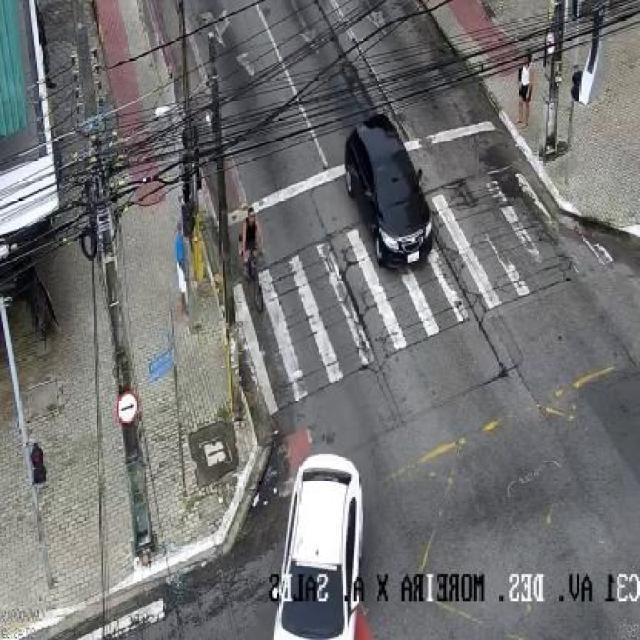Car: (323, 100, 440, 278), (276, 428, 369, 640)
